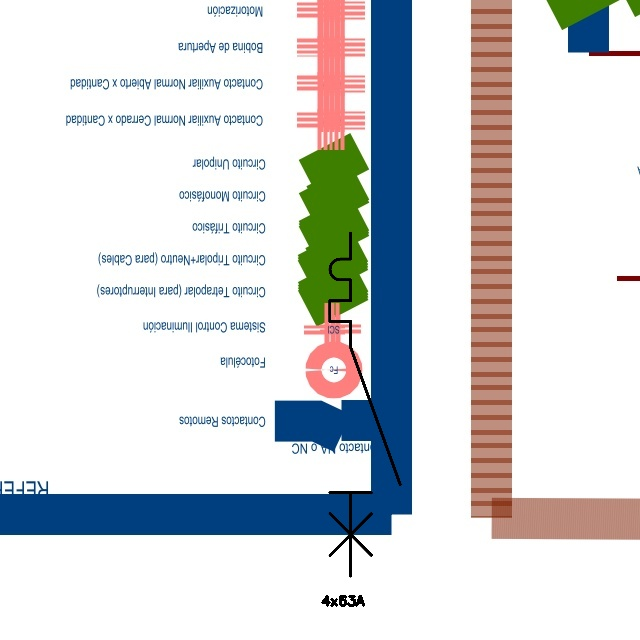interruptor_termomagnetico: (321, 224, 409, 585)
